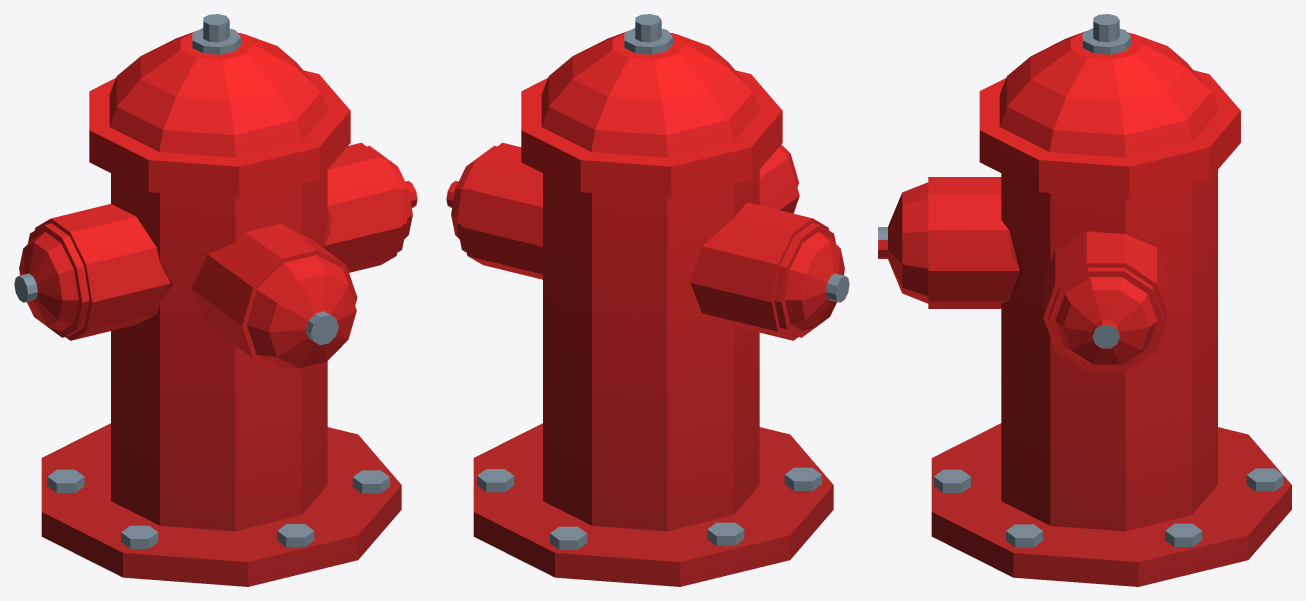
Rendered from hydran.fbx.
3 renders of one model, left to right at view 1: azimuth 30°, elevation 25°; view 2: azimuth 150°, elevation 25°; view 3: azimuth 270°, elevation 25°, orthographic.
Visible parts, largest first — view 1: Cylinder.003; view 2: Cylinder.003; view 3: Cylinder.003.
Boxes of the visible parts, x1=… form: Cylinder.003: x1=14, y1=14, x2=417, y2=586; Cylinder.003: x1=446, y1=14, x2=849, y2=586; Cylinder.003: x1=878, y1=14, x2=1291, y2=586.
Size of the model in its own units: 144 by 174 by 133.
